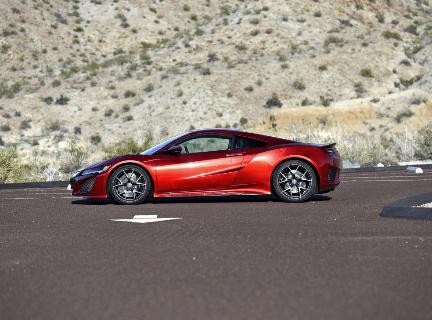讴歌-NSX: (62, 126, 345, 213)
